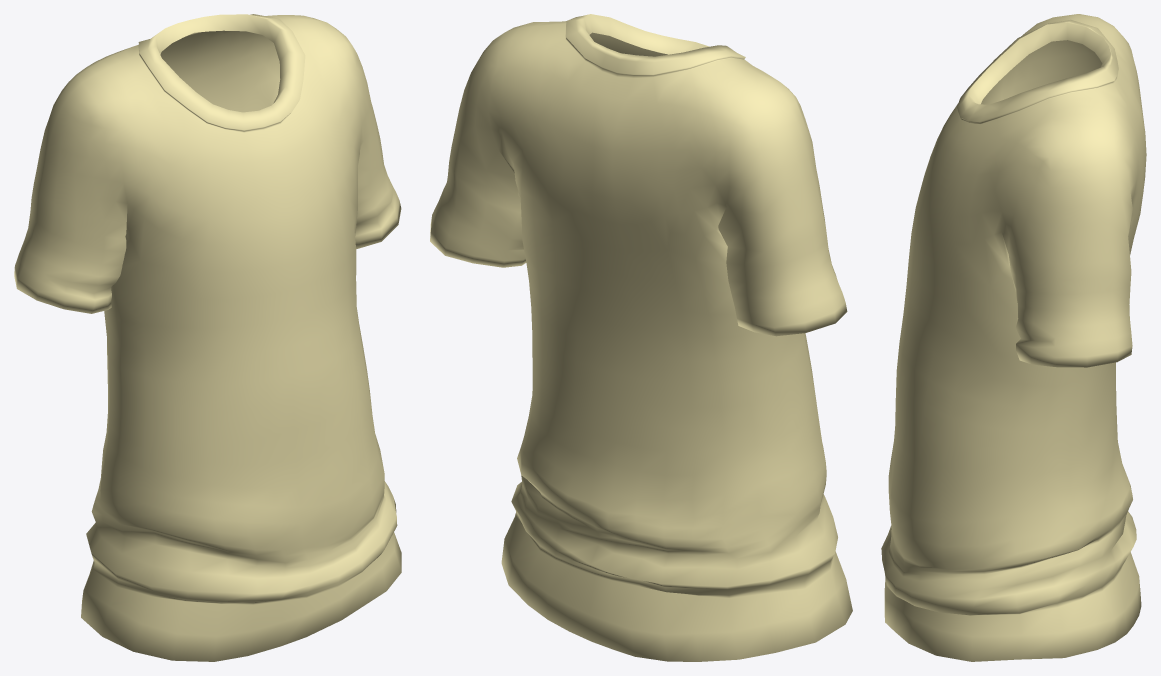
Rendered from 白黃衣服.fbx.
The picture shows the model from 3 angles, left to right: view 1: azimuth 30°, elevation 25°; view 2: azimuth 150°, elevation 25°; view 3: azimuth 270°, elevation 25°; orthographic projection. The views are drawn at different scales.
Parts seen in each view (by area): view 1: Shirt_MSH Shirt_GRP Clothing_GRP Geo mesh rig Boy_grp; view 2: Shirt_MSH Shirt_GRP Clothing_GRP Geo mesh rig Boy_grp; view 3: Shirt_MSH Shirt_GRP Clothing_GRP Geo mesh rig Boy_grp.
Boxes of the visible parts, <box> form: Shirt_MSH Shirt_GRP Clothing_GRP Geo mesh rig Boy_grp: <box>14,14,401,661</box>; Shirt_MSH Shirt_GRP Clothing_GRP Geo mesh rig Boy_grp: <box>430,14,852,661</box>; Shirt_MSH Shirt_GRP Clothing_GRP Geo mesh rig Boy_grp: <box>881,14,1146,661</box>.
Size of the model in its own units: 280 by 396 by 167.
